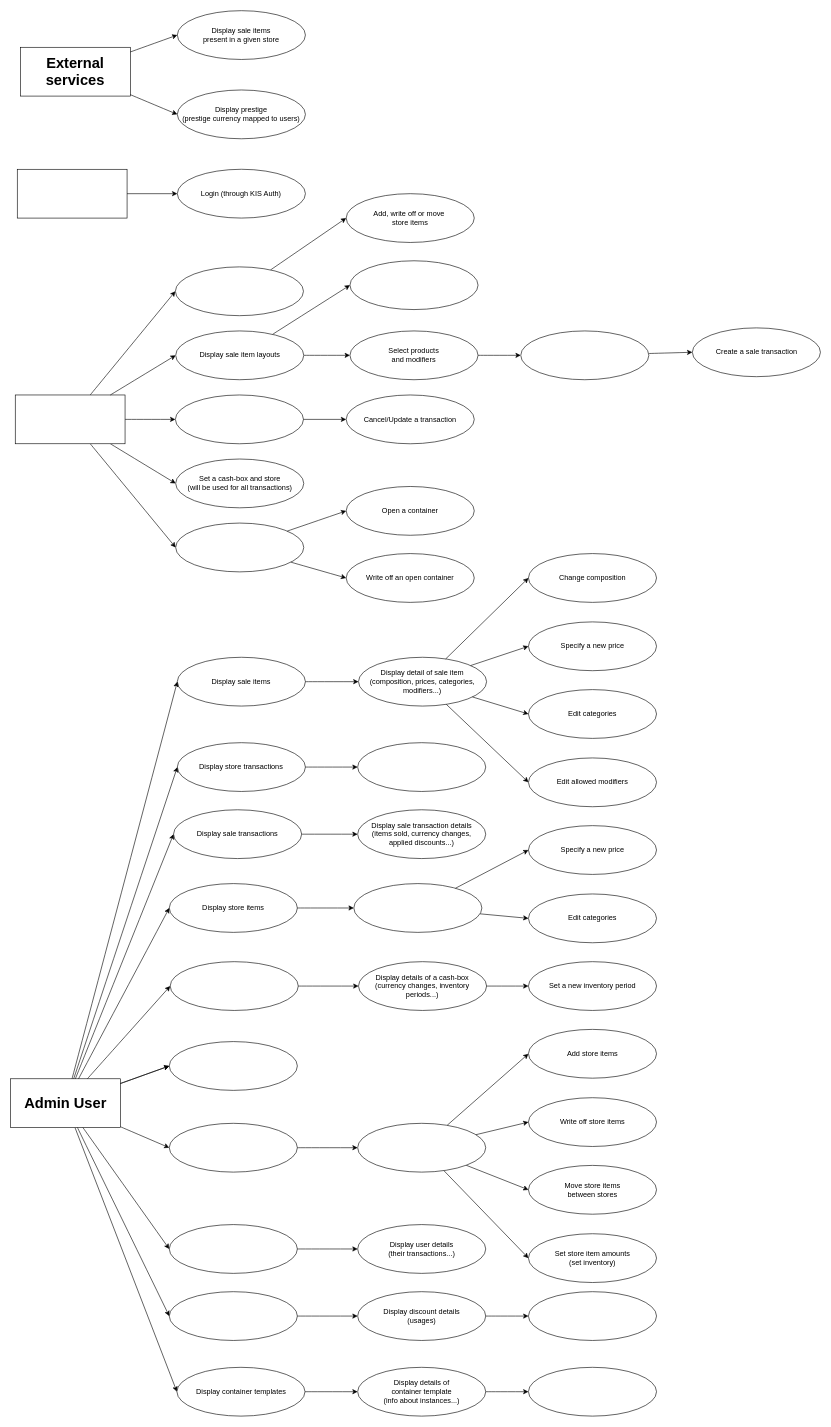
This 831x1427 diagram has some shape labels left out. Here are the shapes that lost their labels. From the top down, the box of each, then its label:
(17, 169, 127, 218): Not logged in
(175, 266, 303, 316): Display store items in set store
(349, 260, 478, 310): Modify a layout
(520, 330, 649, 380): (optional) Apply a discount
(15, 394, 125, 444): POS User
(175, 394, 303, 444): Display recent sale transactions
(175, 522, 304, 572): Display containers in set store
(357, 742, 486, 791): Display store transaction details (items transferred, sale transaction...)
(353, 883, 482, 932): Display details of store item (prices, store transactions, categories...)
(170, 961, 298, 1010): Display cash-boxes
(169, 1041, 297, 1090): Display pipes
(169, 1123, 297, 1172): Display stores
(357, 1123, 486, 1172): Display detail of store (store items, store transactions...)
(169, 1224, 297, 1273): Display users
(169, 1291, 297, 1340): Display discounts
(528, 1291, 657, 1340): Display discount usage details (what items it has been used on)
(528, 1367, 657, 1416): Display details of a container instance
